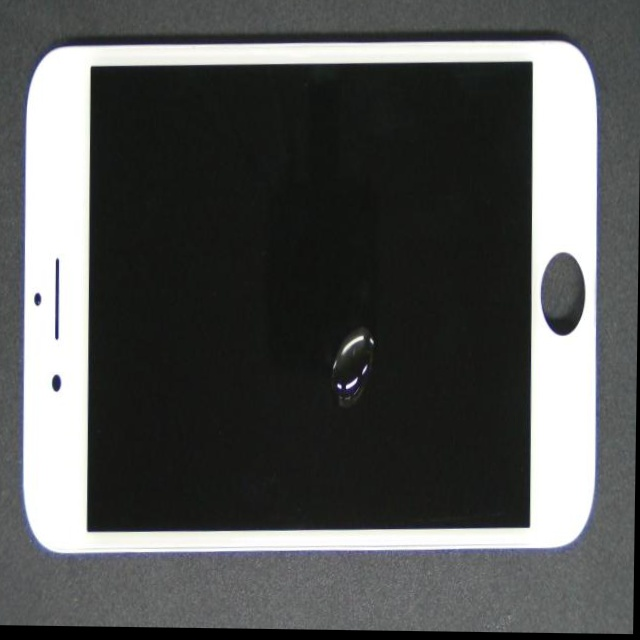oil: (191, 172, 578, 545)
